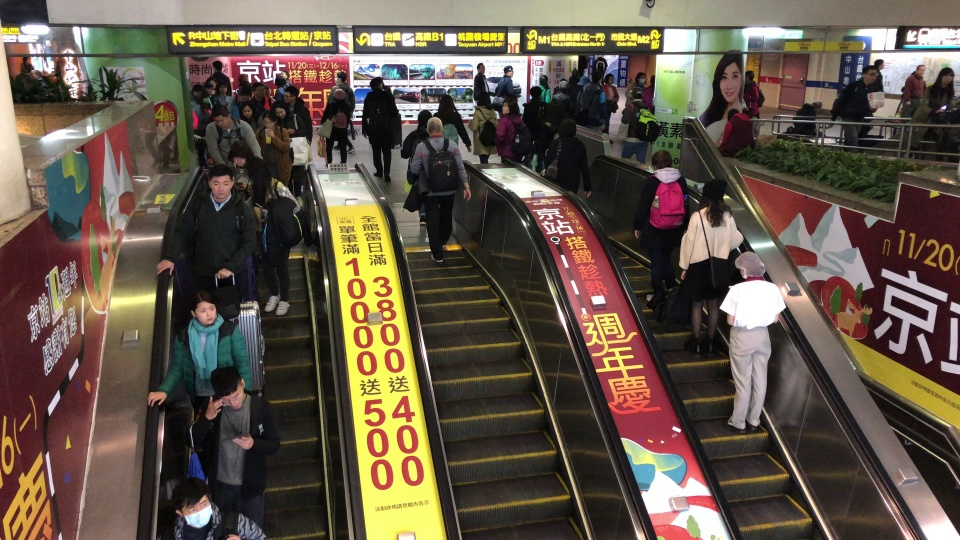person_head: (171, 474, 213, 530), (209, 365, 245, 410), (190, 290, 217, 325), (733, 250, 765, 279), (207, 164, 233, 199), (701, 178, 728, 206), (229, 140, 251, 167), (211, 103, 231, 131), (250, 163, 272, 188), (651, 149, 672, 171), (557, 117, 577, 137), (425, 116, 444, 136), (501, 97, 520, 116), (238, 100, 256, 119), (437, 94, 456, 112), (271, 100, 288, 119), (416, 109, 433, 128), (861, 65, 877, 85), (937, 66, 954, 84), (261, 109, 277, 128), (476, 91, 492, 109), (283, 86, 299, 103), (237, 85, 252, 103), (251, 82, 265, 97), (333, 70, 347, 83), (590, 70, 603, 84), (576, 75, 590, 88), (630, 86, 643, 100), (726, 108, 740, 121), (332, 88, 345, 101), (369, 78, 382, 91), (557, 80, 570, 93), (192, 84, 204, 97), (237, 73, 249, 86), (529, 86, 542, 98), (206, 75, 217, 89), (634, 72, 646, 84), (28, 69, 41, 80), (273, 75, 286, 86), (218, 81, 228, 95), (212, 60, 223, 72), (603, 73, 614, 85), (873, 59, 885, 70), (915, 64, 926, 76), (200, 91, 210, 104), (503, 65, 513, 78), (204, 83, 214, 95), (538, 74, 548, 86), (744, 70, 754, 82), (812, 100, 822, 111), (476, 62, 485, 73), (571, 68, 580, 79), (263, 83, 270, 97), (279, 70, 289, 79), (649, 75, 655, 88), (22, 56, 30, 65)
person_vbox: (147, 290, 253, 482), (185, 364, 281, 530), (155, 164, 257, 305), (717, 250, 787, 435), (677, 178, 744, 360), (409, 116, 472, 263), (632, 149, 691, 303), (248, 163, 302, 316), (156, 474, 269, 540), (226, 140, 260, 304), (900, 66, 954, 161), (535, 117, 592, 199), (828, 65, 877, 153), (269, 99, 306, 209), (361, 78, 399, 182), (400, 109, 433, 225), (204, 103, 264, 165), (254, 109, 292, 187), (319, 88, 351, 167), (326, 70, 356, 153), (432, 94, 472, 153), (467, 91, 498, 164), (620, 86, 649, 164), (494, 97, 526, 163), (282, 85, 313, 148), (717, 108, 756, 157), (576, 70, 606, 132), (191, 91, 214, 170), (900, 64, 927, 124), (521, 86, 549, 135), (791, 100, 827, 137), (494, 65, 518, 119), (601, 73, 619, 144), (551, 80, 575, 123), (742, 70, 760, 119), (237, 100, 263, 133), (473, 62, 491, 106), (624, 71, 646, 107), (234, 84, 262, 112), (211, 60, 232, 96), (213, 81, 234, 114), (250, 82, 273, 110), (640, 75, 655, 114), (233, 72, 253, 101), (28, 69, 50, 93), (19, 56, 35, 86), (272, 75, 290, 100), (593, 55, 608, 84), (873, 59, 885, 92), (538, 74, 551, 103), (190, 84, 204, 106), (204, 83, 215, 107), (568, 68, 580, 88), (578, 55, 588, 78), (279, 70, 292, 85)
